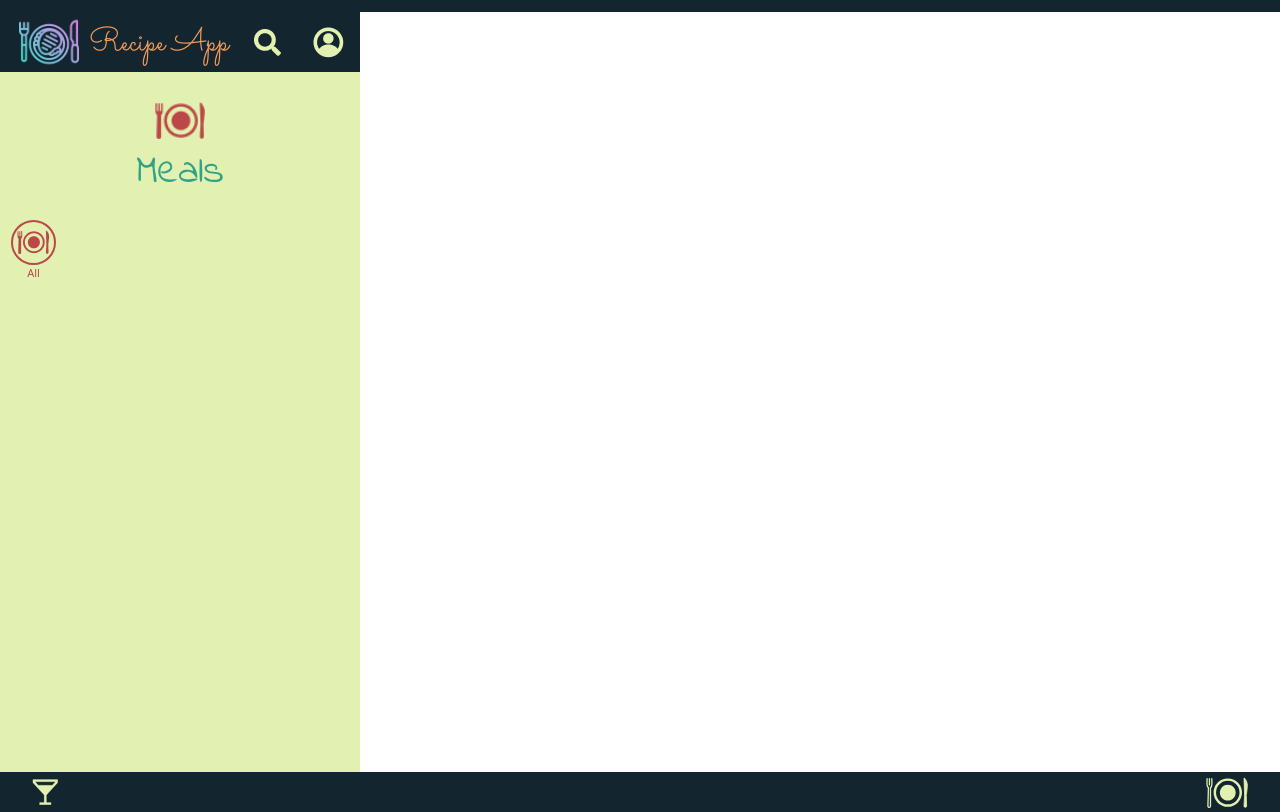
Testa o componente SearchBar › Testa se os elementos renderizam
This screenshot has width=1280, height=812.
Click the button with test id "search-top-btn" at (268, 42), box [248,22,287,62]
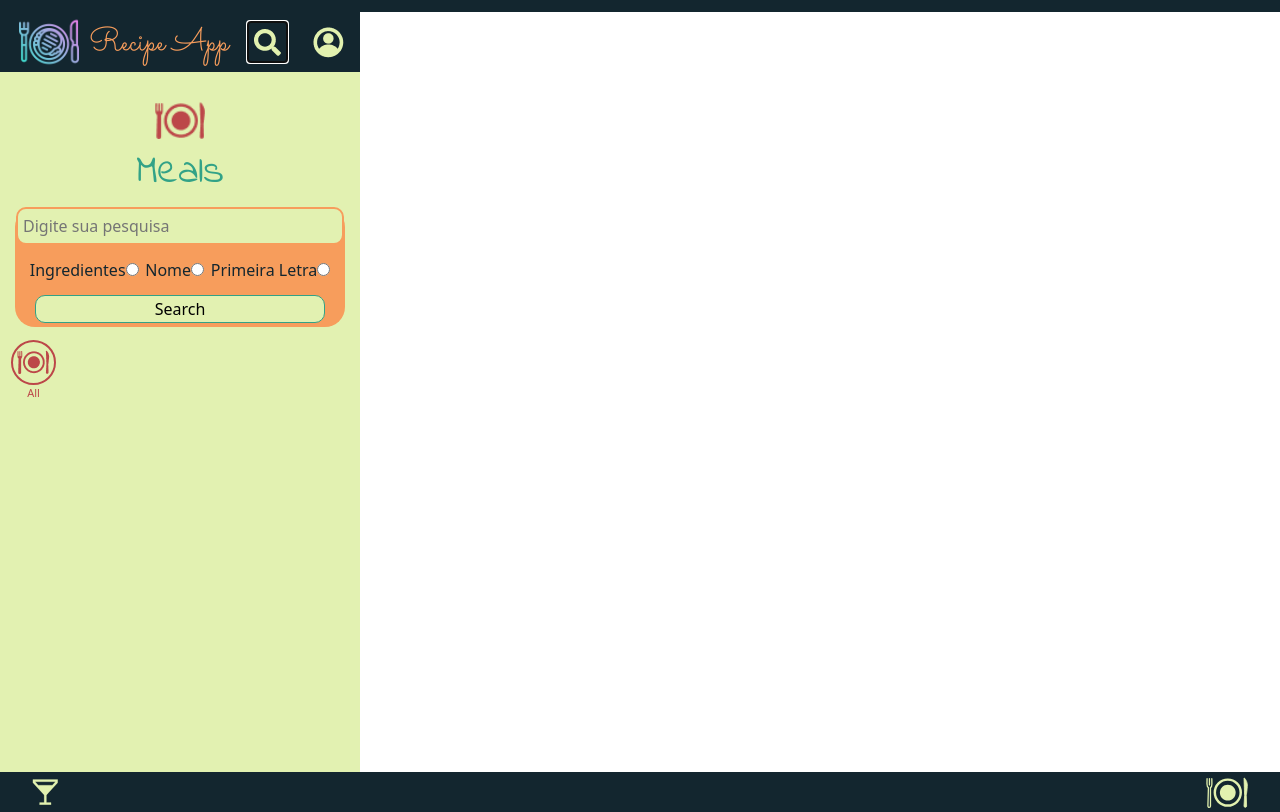
expect the field with test id "search-input" is shown: met, box [16,207,344,245]
expect the radio button with test id "ingredient-search-radio" is shown: met, box [126,263,138,276]
expect the radio button with test id "name-search-radio" is shown: met, box [191,263,204,276]
